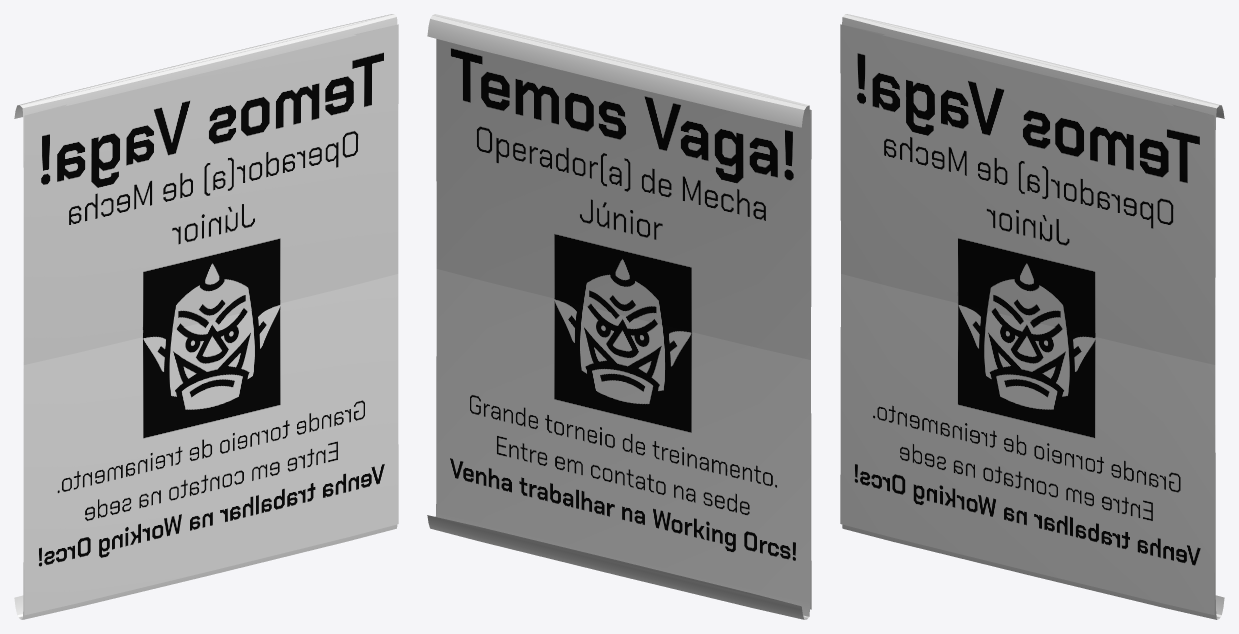
File: POOster.fbx
3 views of the same model, side by side, from view 1: azimuth 30°, elevation 25°; view 2: azimuth 150°, elevation 25°; view 3: azimuth 330°, elevation 25° (orthographic).
Parts seen in each view (by area): view 1: Pooster; view 2: Pooster; view 3: Pooster.
Boxes of the visible parts, x1,y1,x2,y2 form: Pooster: [14, 14, 398, 619]; Pooster: [427, 14, 811, 619]; Pooster: [840, 14, 1224, 619].
Size of the model in its own units: 394 by 516 by 22.22.
Materials: 1 (1 with a texture image).
